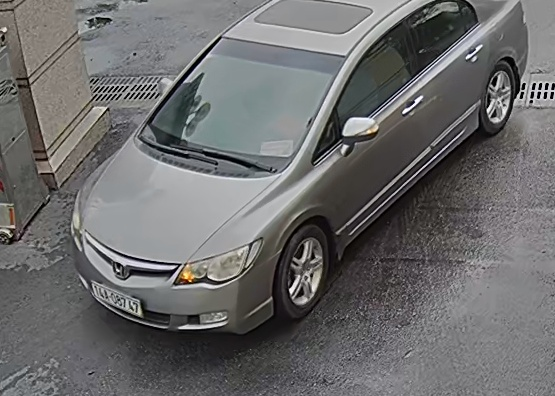vehicle plate: (84, 278, 148, 322)
